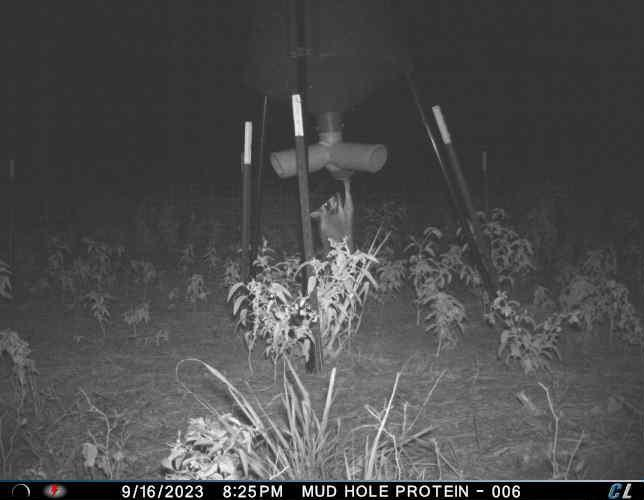Raccoon: (312, 175, 355, 253)
